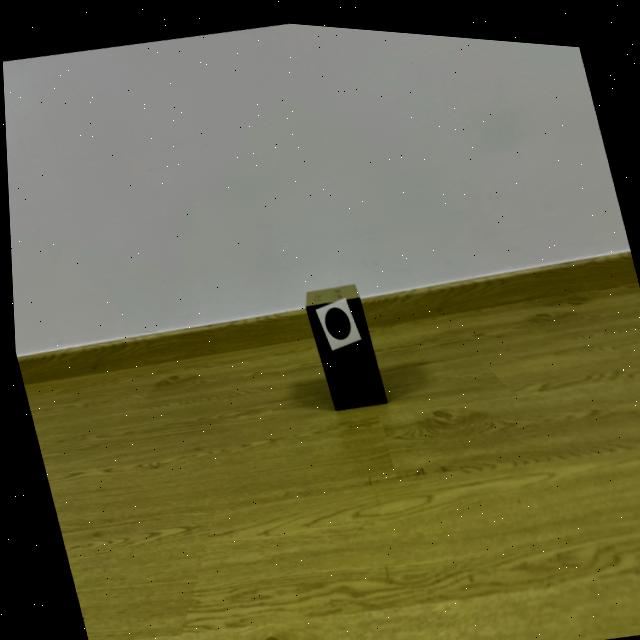CIRCLE: (322, 301, 348, 333)
